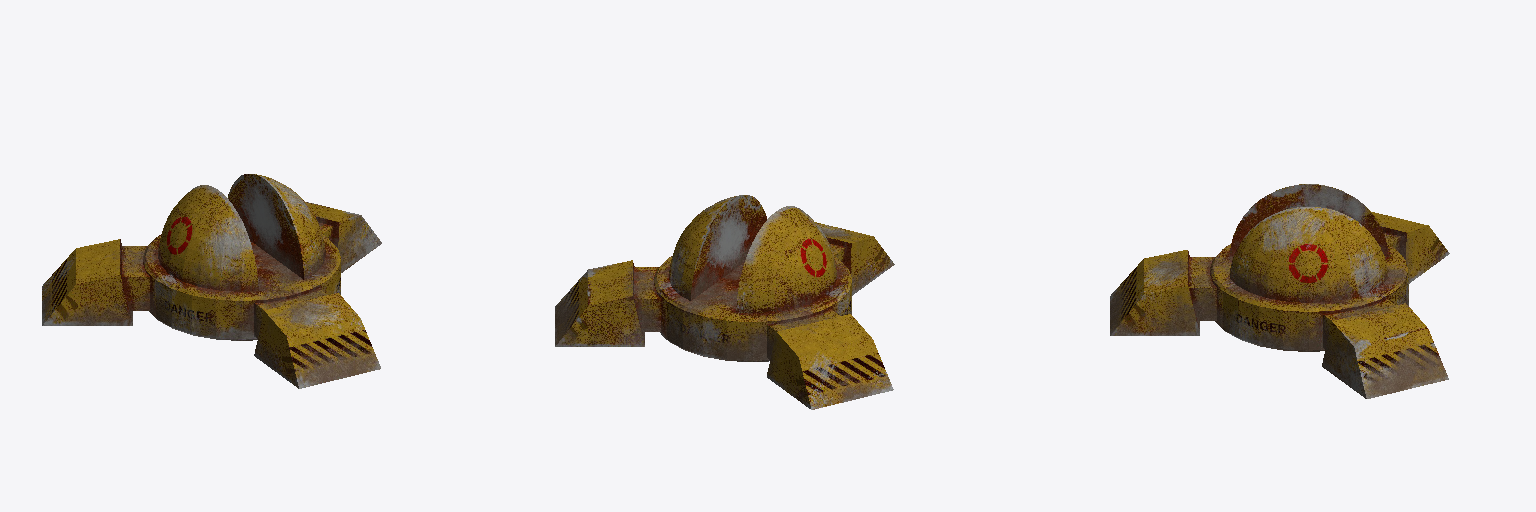
The picture shows the model from 3 angles: view 1: azimuth 30°, elevation 25°; view 2: azimuth 150°, elevation 25°; view 3: azimuth 270°, elevation 25°; orthographic projection.
Parts seen in each view (by area): view 1: Sphere002; view 2: Sphere002; view 3: Sphere002.
Boxes of the visible parts, box(x1,y1,x2,y2) form: Sphere002: box(42, 174, 381, 388); Sphere002: box(555, 195, 894, 409); Sphere002: box(1110, 184, 1449, 398).
Size of the model in its own units: 1.21 by 0.4142 by 1.05.
1 materials, 1 textured.